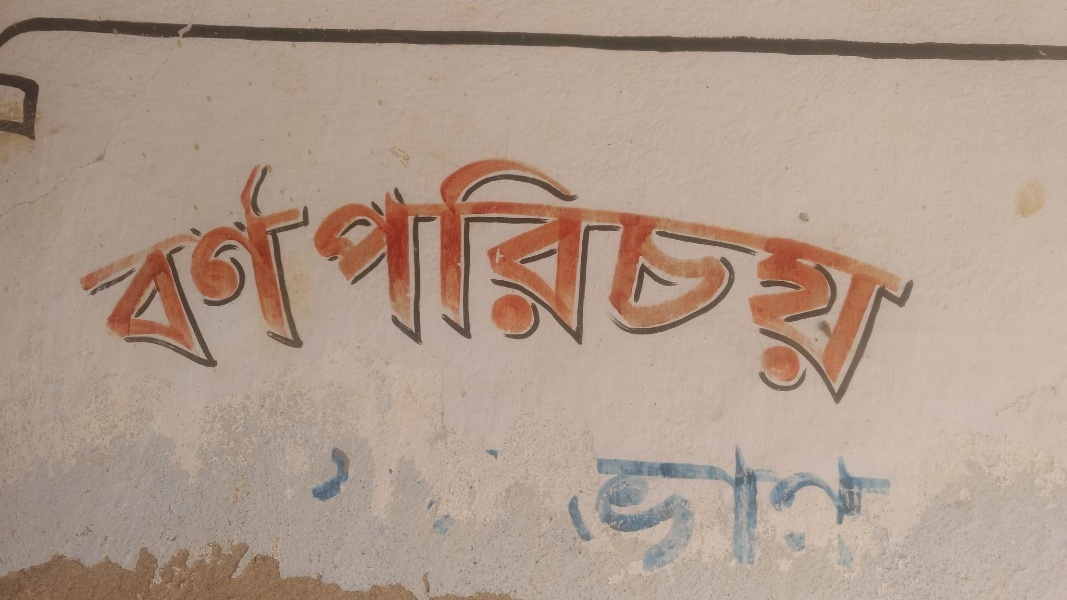text: (321, 119, 336, 430), (337, 119, 352, 430), (353, 119, 368, 430), (369, 119, 384, 430), (385, 119, 400, 430), (401, 119, 416, 430), (417, 119, 432, 430), (433, 119, 448, 430), (449, 119, 464, 430), (465, 119, 480, 430), (481, 119, 496, 430), (497, 119, 512, 430), (513, 119, 528, 430), (529, 119, 544, 430), (545, 119, 560, 430), (561, 119, 576, 430), (577, 119, 592, 430), (593, 119, 608, 430), (609, 119, 624, 430), (625, 119, 640, 430), (641, 119, 656, 430), (657, 119, 672, 430), (673, 119, 688, 430), (689, 119, 704, 430), (705, 119, 720, 430), (721, 119, 736, 430), (737, 119, 752, 430), (753, 119, 768, 430), (769, 119, 784, 430), (785, 119, 800, 430), (801, 119, 816, 430), (817, 119, 832, 430), (833, 119, 848, 430), (849, 119, 864, 430), (865, 119, 880, 430), (881, 119, 896, 430), (897, 119, 912, 430), (913, 119, 928, 430), (929, 119, 944, 430), (65, 140, 80, 399), (81, 140, 96, 399), (97, 140, 112, 399), (113, 140, 128, 399), (129, 140, 144, 399), (145, 140, 160, 399), (161, 140, 176, 399), (177, 140, 192, 399), (193, 140, 208, 399), (209, 140, 224, 399), (225, 140, 240, 399), (241, 140, 256, 399), (257, 140, 272, 399), (273, 140, 288, 399), (289, 140, 304, 399), (50, 140, 64, 399), (305, 140, 319, 399), (312, 119, 320, 430), (945, 119, 953, 430), (561, 423, 576, 584), (577, 423, 592, 584), (593, 423, 608, 584), (609, 423, 624, 584), (625, 423, 640, 584), (641, 423, 656, 584), (657, 423, 672, 584), (673, 423, 688, 584), (689, 423, 704, 584), (705, 423, 720, 584), (721, 423, 736, 584), (737, 423, 752, 584), (753, 423, 768, 584), (769, 423, 784, 584), (785, 423, 800, 584), (801, 423, 816, 584), (817, 423, 832, 584), (833, 423, 848, 584), (849, 423, 864, 584), (865, 423, 880, 584), (881, 423, 896, 584), (559, 423, 560, 584)
